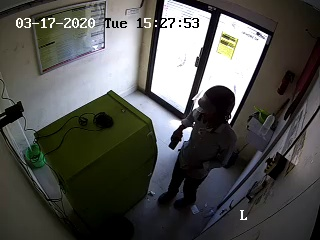helmet: (189, 81, 235, 133)
